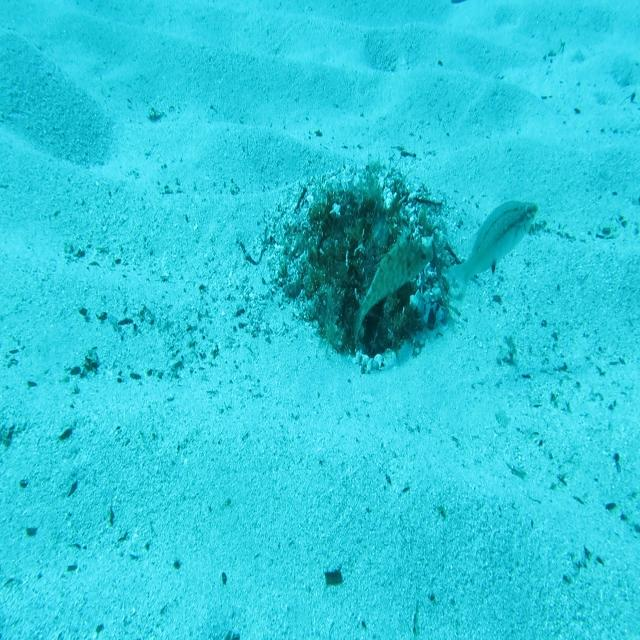MAF: (347, 224, 434, 346)
core_nest: (338, 204, 381, 252)
female: (442, 197, 539, 311)
nest: (255, 147, 473, 385)
vegetation: (320, 564, 345, 594)
